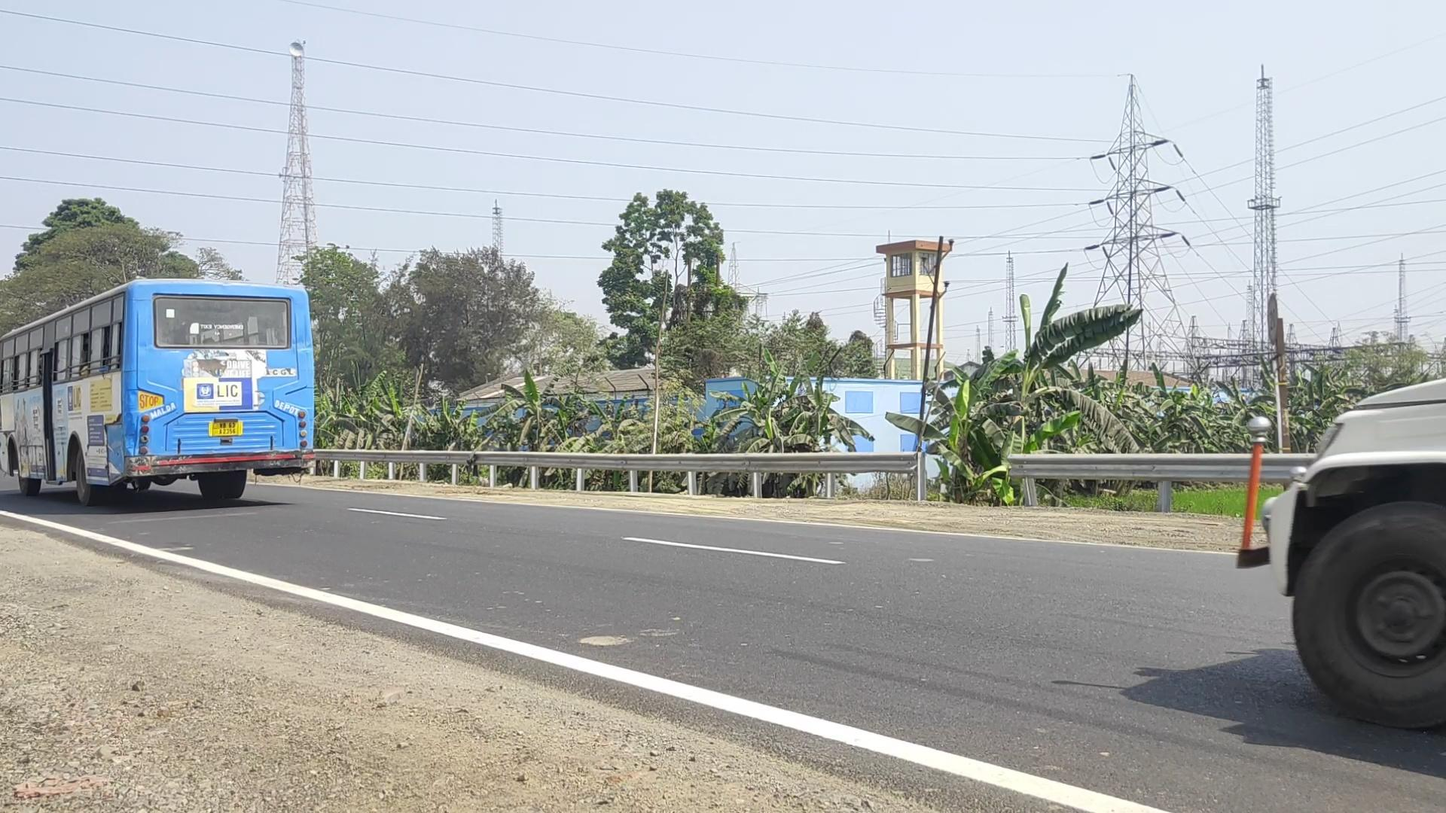Bus: (1, 276, 315, 507)
